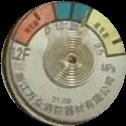green: (55, 1, 92, 27)
needle: (80, 8, 90, 40)
red: (13, 3, 59, 45)
yellow: (85, 8, 125, 56)
